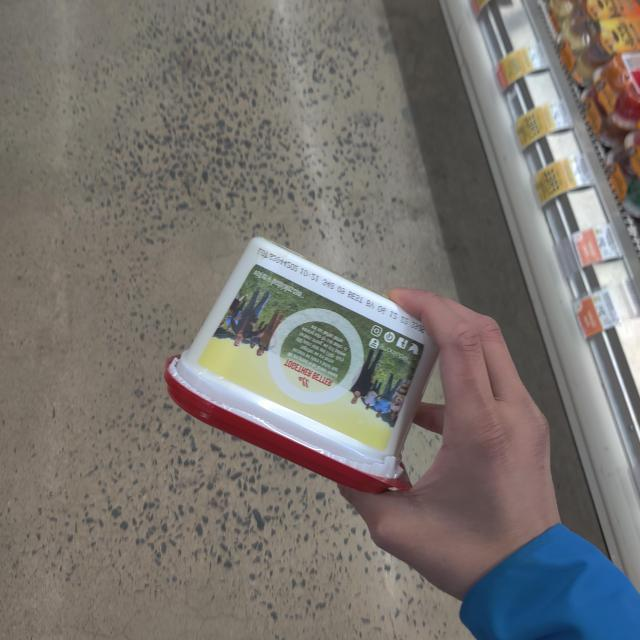Butter: (151, 246, 446, 482)
